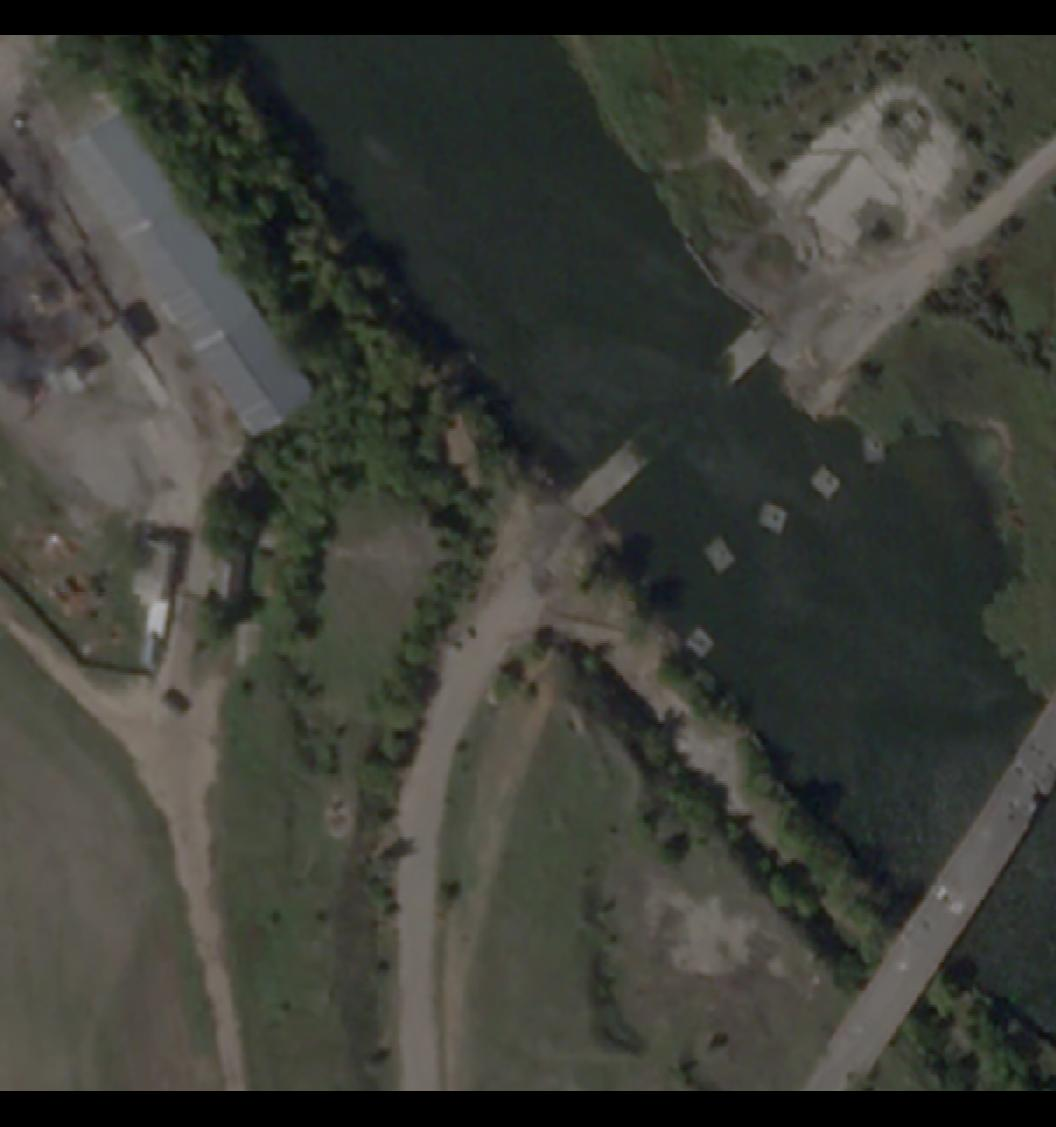demaged-bridge-high: (482, 153, 952, 674)
